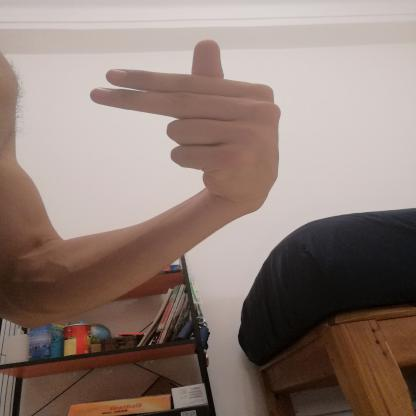GHAYN: (76, 30, 294, 220)
